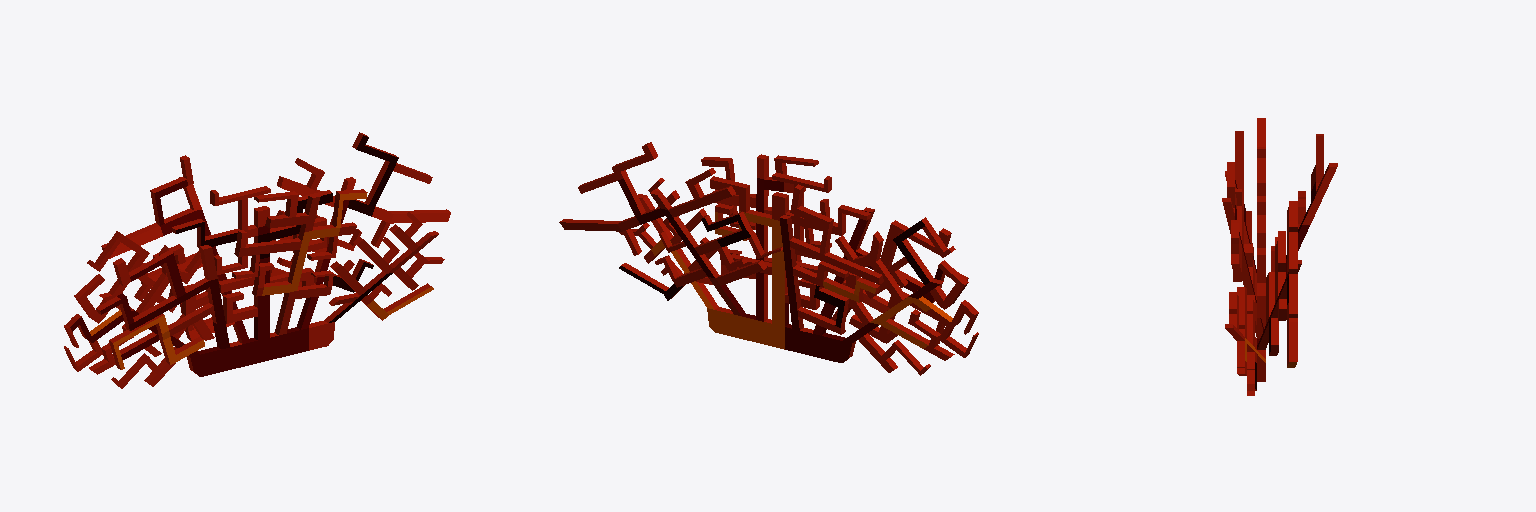
The model's file is fan_coral 1.obj.
The picture shows the model from 3 angles: view 1: azimuth 30°, elevation 25°; view 2: azimuth 150°, elevation 25°; view 3: azimuth 270°, elevation 25°; orthographic projection.
Parts seen in each view (by area): view 1: Cube; view 2: Cube; view 3: Cube.
Boxes of the visible parts, <box> form: Cube: <box>64,132,450,388</box>; Cube: <box>559,142,978,375</box>; Cube: <box>1222,118,1337,395</box>.
Size of the model in its own units: 36.93 by 17.05 by 9.21.